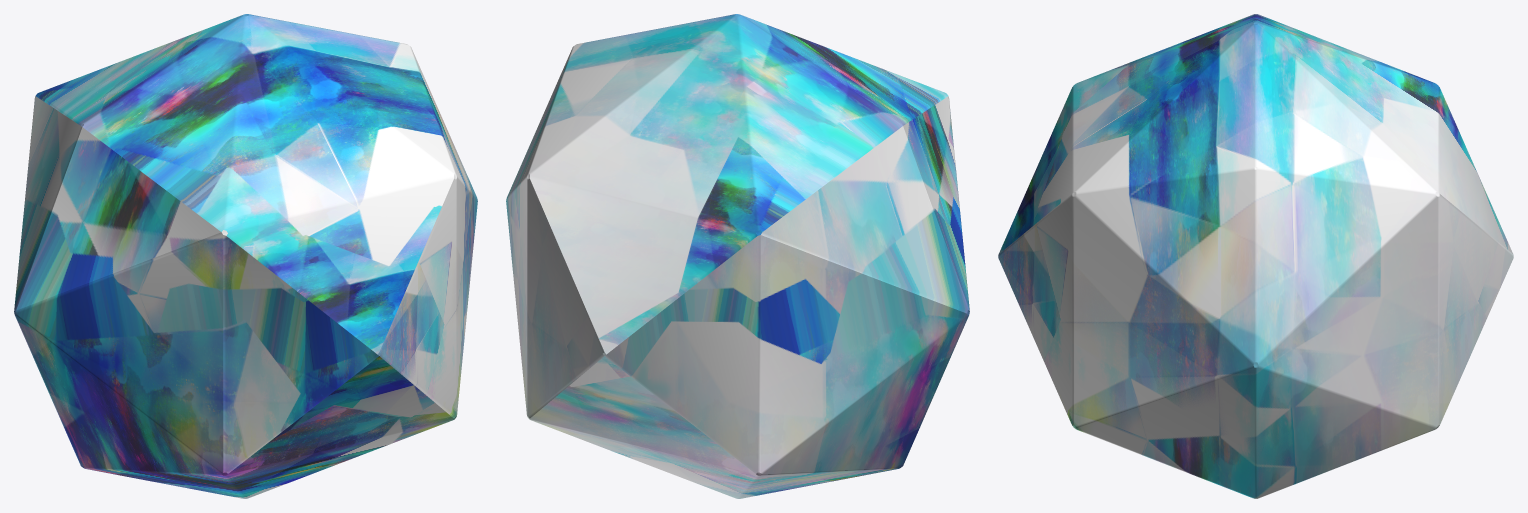
File: Jewelry Type 8.glb
3 views of the same model, side by side, from view 1: azimuth 30°, elevation 25°; view 2: azimuth 150°, elevation 25°; view 3: azimuth 270°, elevation 25° (orthographic). The views are drawn at different scales.
Parts seen in each view (by area): view 1: Jewelry002_M_Jewelry001_0; view 2: Jewelry002_M_Jewelry001_0; view 3: Jewelry002_M_Jewelry001_0.
Part boxes in pixels (<box>): Jewelry002_M_Jewelry001_0: <box>14,14,477,498</box>; Jewelry002_M_Jewelry001_0: <box>506,14,969,498</box>; Jewelry002_M_Jewelry001_0: <box>998,14,1513,498</box>.
Bounding box in the file's own units: 0.6324 × 0.6324 × 0.6338.
Materials: 1 (1 with a texture image).
